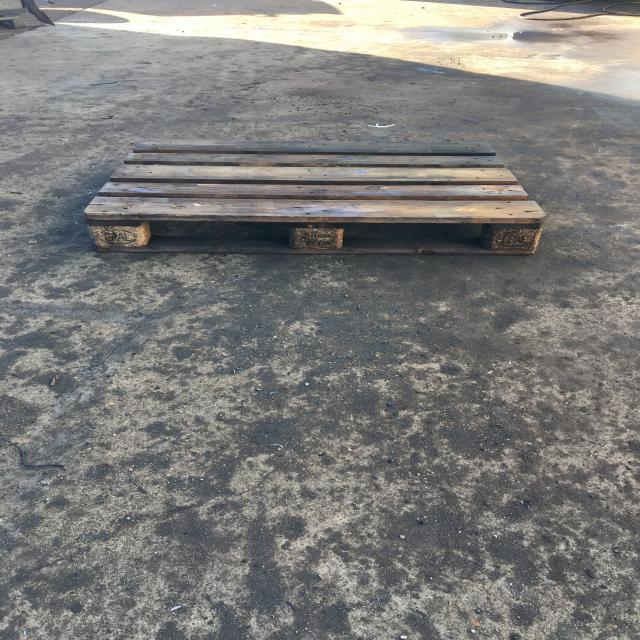block: (82, 214, 148, 252), (289, 216, 350, 254), (488, 222, 540, 256)
front: (78, 209, 548, 262)
